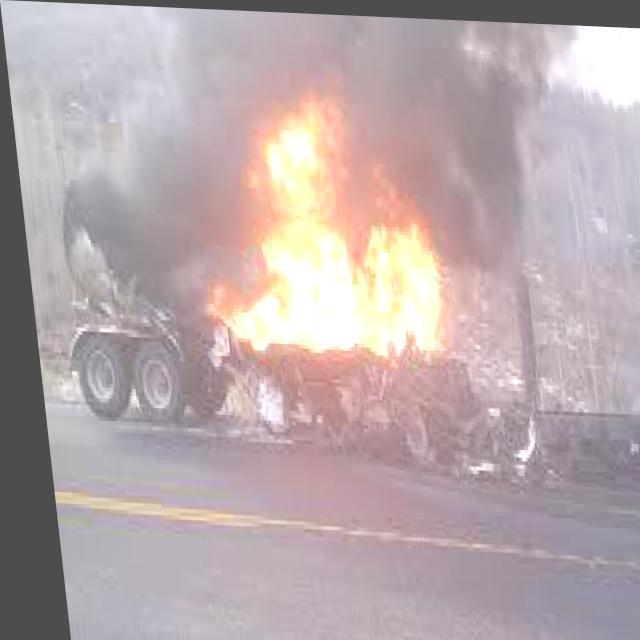Fire: (192, 99, 442, 377)
